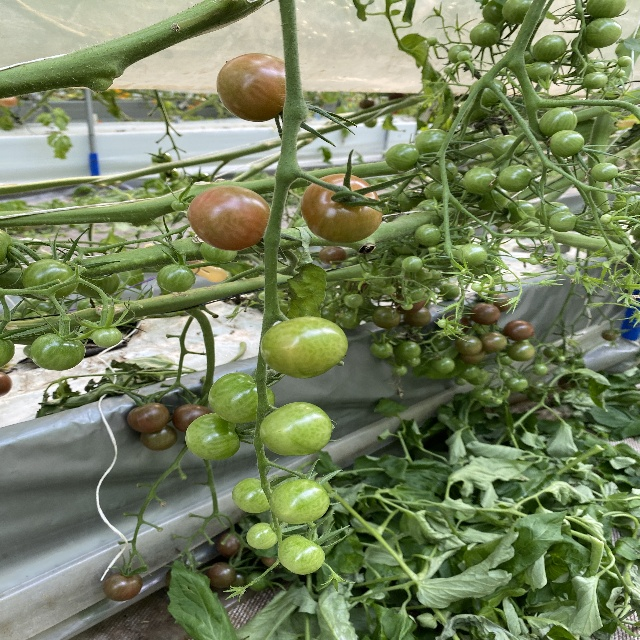l_green: (260, 316, 348, 378), (258, 400, 332, 457), (208, 371, 276, 424), (268, 478, 331, 524), (185, 412, 242, 461), (21, 258, 80, 301), (29, 332, 87, 371), (277, 534, 326, 575), (232, 478, 269, 514), (538, 107, 578, 138), (75, 274, 120, 300), (156, 264, 196, 293), (584, 16, 620, 48), (384, 143, 421, 172), (498, 164, 536, 192), (548, 129, 585, 157), (415, 128, 448, 158), (463, 167, 498, 194), (533, 34, 566, 62), (199, 242, 239, 265), (247, 522, 279, 550), (536, 201, 568, 228), (491, 135, 525, 159), (586, 0, 626, 20), (505, 200, 537, 225), (469, 23, 500, 47), (501, 1, 533, 24), (456, 244, 488, 267), (91, 326, 122, 348), (414, 223, 442, 247), (429, 158, 458, 181), (526, 61, 554, 83), (425, 182, 453, 202), (549, 212, 578, 231), (591, 162, 618, 182), (581, 72, 609, 90), (401, 256, 423, 273), (172, 200, 187, 211), (457, 50, 471, 61), (619, 56, 632, 66), (601, 213, 612, 224), (437, 320, 446, 328)
l_half_ripened: (300, 172, 385, 243), (188, 184, 271, 250), (216, 52, 285, 123), (126, 402, 169, 433), (103, 571, 144, 603), (173, 404, 214, 433), (140, 425, 178, 452)
